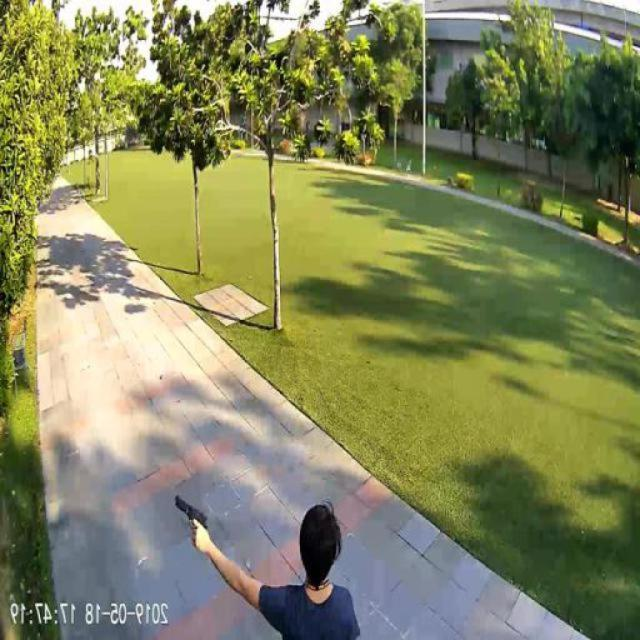pistol: (175, 492, 210, 529)
